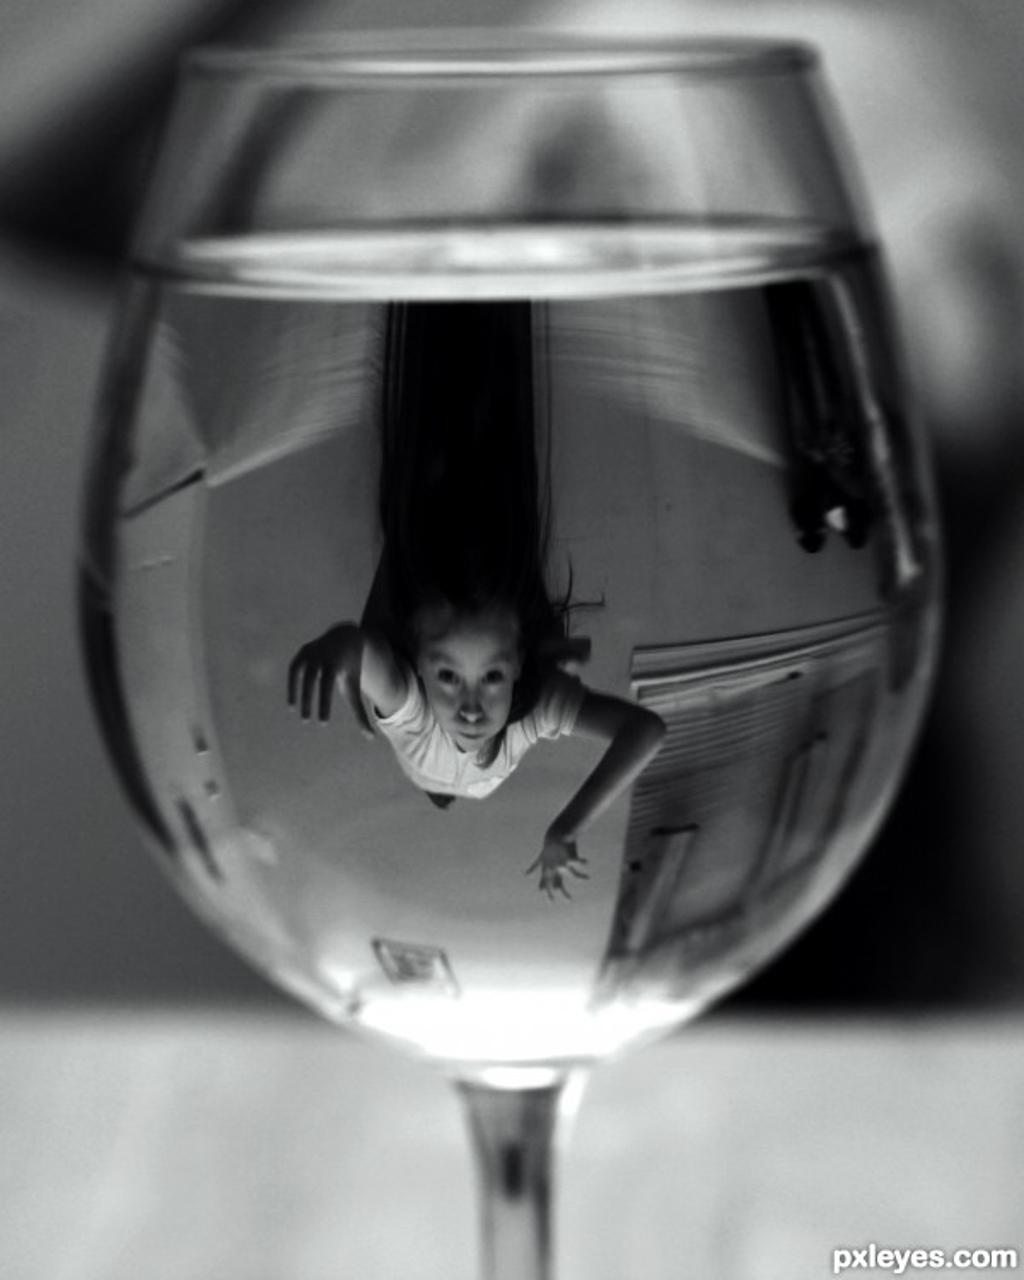face: (432, 629, 517, 751)
